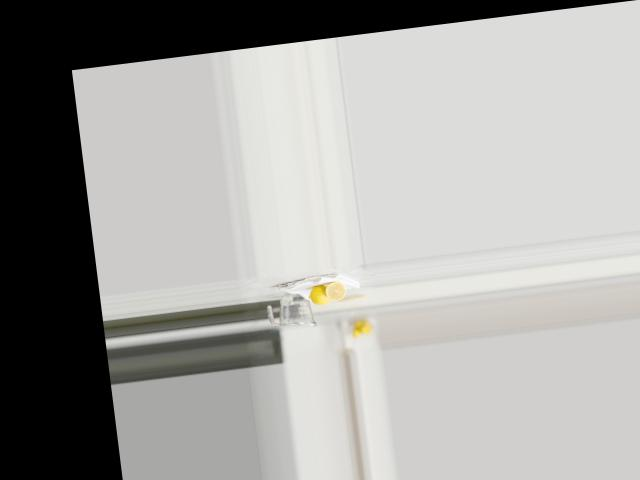lemon: (306, 284, 334, 307)
